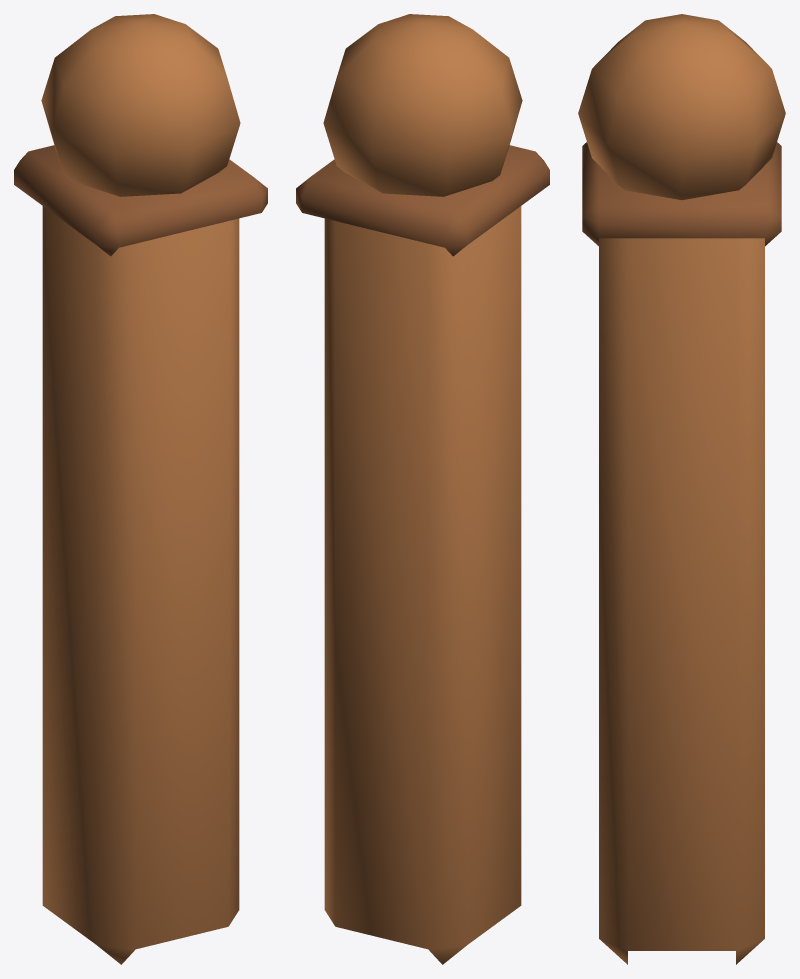
File: fence_wood_end.glb
The picture shows the model from 3 angles, left to right: view 1: azimuth 30°, elevation 25°; view 2: azimuth 150°, elevation 25°; view 3: azimuth 270°, elevation 25°; orthographic projection.
Parts seen in each view (by area): view 1: fence_wood_end; view 2: fence_wood_end; view 3: fence_wood_end.
Boxes of the visible parts, bbox=[...] form: fence_wood_end: bbox=[14, 14, 267, 964]; fence_wood_end: bbox=[296, 14, 549, 964]; fence_wood_end: bbox=[578, 14, 785, 964].
Size of the model in its own units: 0.25 by 1.22 by 0.25.
1 material, 1 textured.
